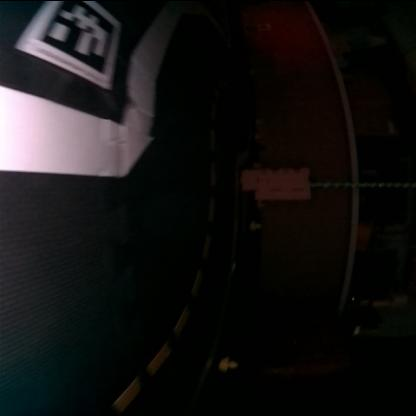Duckie: (220, 358, 238, 367), (253, 222, 261, 226)
QR code: (26, 4, 116, 87)
